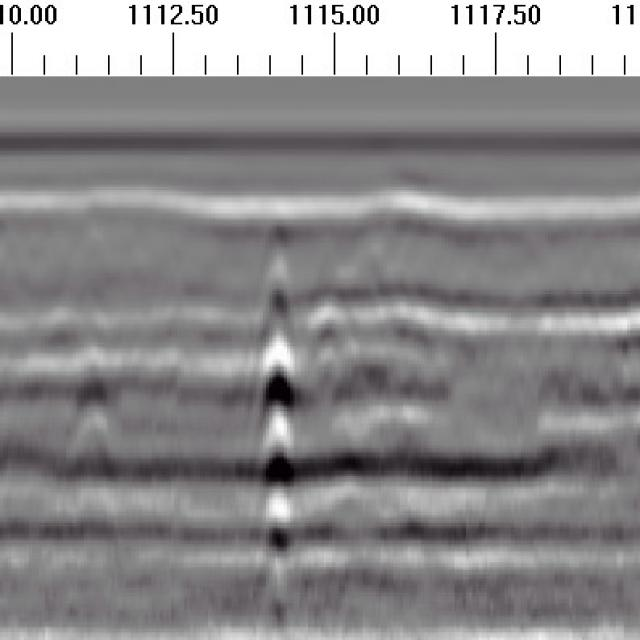crack: (258, 215, 295, 586)
